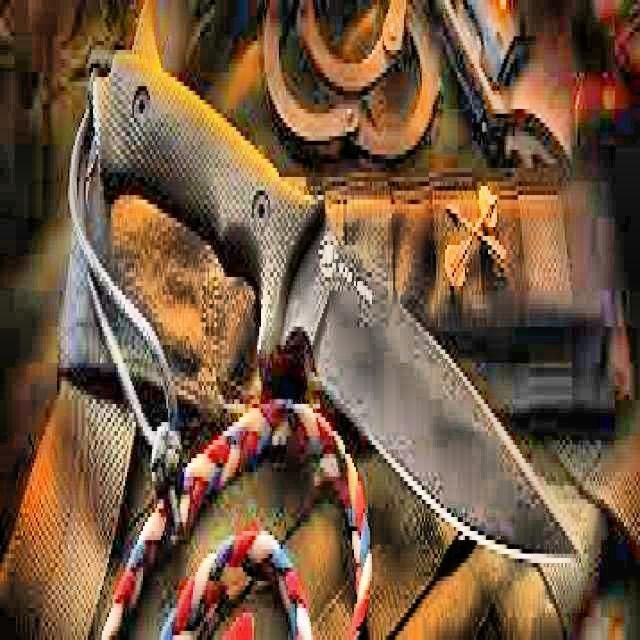knife: (90, 0, 585, 603)
